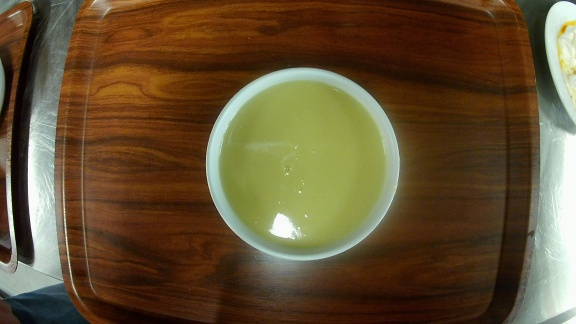mercimek: (201, 65, 404, 265)
